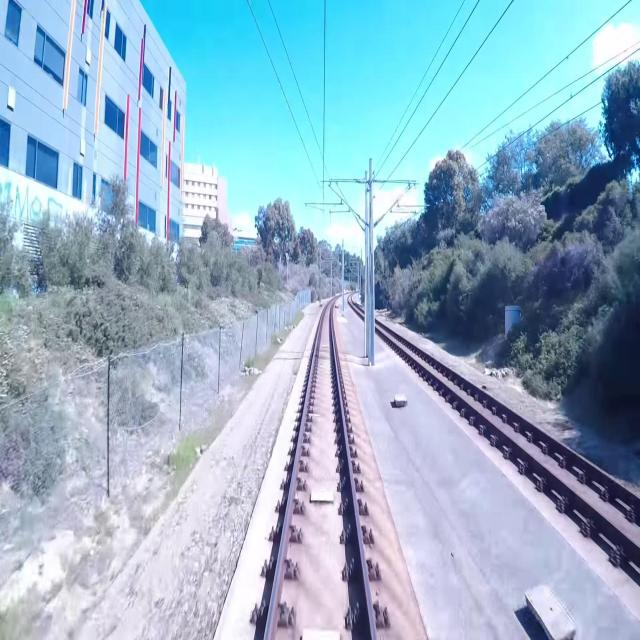rail-track: (374, 320, 640, 542), (269, 302, 371, 639)
